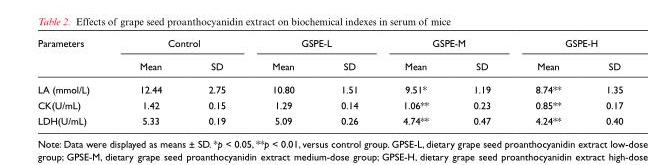table: (36, 36, 622, 126)
table column: (36, 36, 113, 126), (113, 36, 184, 126), (379, 36, 450, 126), (512, 36, 582, 126), (248, 36, 317, 126), (184, 36, 248, 126), (317, 36, 379, 126), (450, 36, 512, 126), (582, 36, 622, 126)
table column header: (36, 36, 622, 77)
table row: (36, 54, 622, 77), (36, 77, 622, 96), (36, 36, 622, 54), (36, 96, 622, 112), (36, 112, 622, 126)
table spanning cell: (36, 36, 113, 77), (113, 36, 248, 54), (379, 36, 512, 54), (248, 36, 379, 54), (512, 36, 622, 54)
